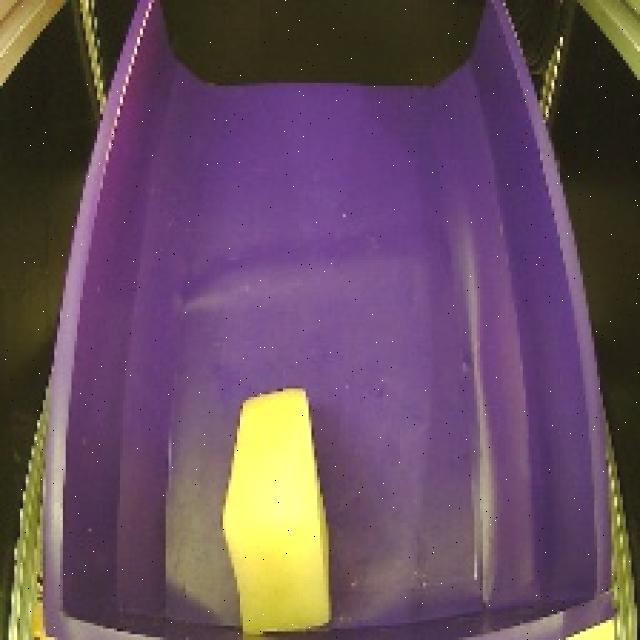potato: (221, 377, 338, 640)
